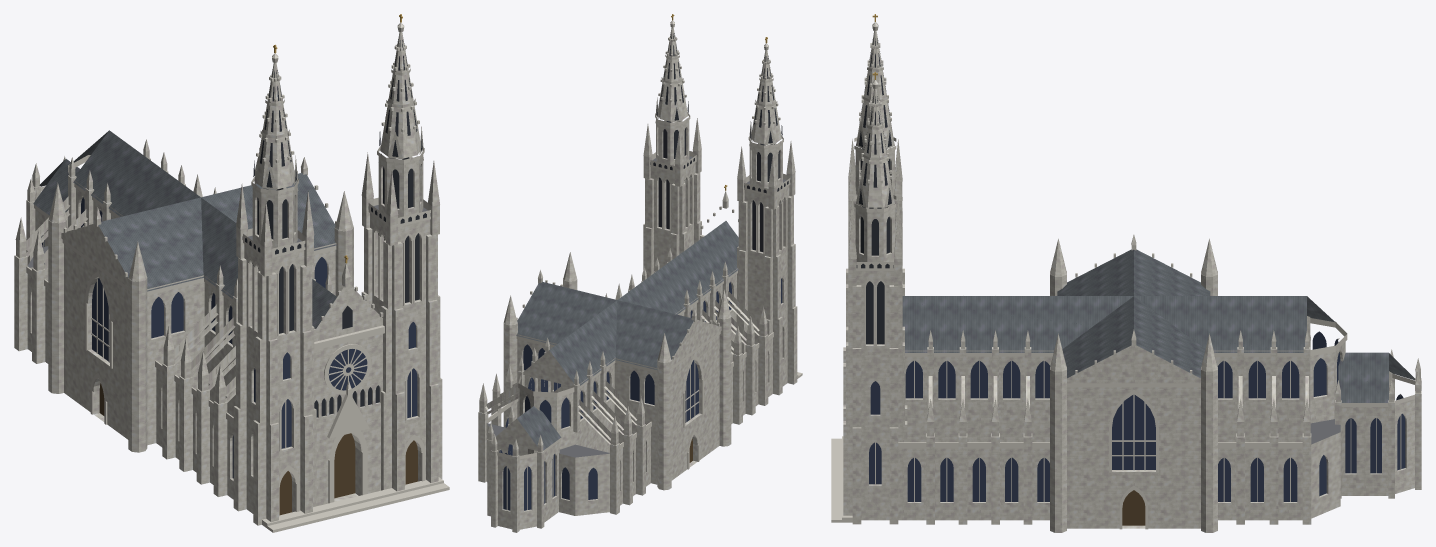
The model's file is st_patricks_cathedral.glb.
The picture shows the model from 3 angles, left to right: view 1: azimuth 30°, elevation 25°; view 2: azimuth 150°, elevation 25°; view 3: azimuth 270°, elevation 25°; orthographic projection. The views are drawn at different scales.
Parts seen in each view (by area): view 1: st_patricks_cathedral; view 2: st_patricks_cathedral; view 3: st_patricks_cathedral.
Part boxes in pixels (<box>): st_patricks_cathedral: <box>14,14,449,532</box>; st_patricks_cathedral: <box>478,14,802,532</box>; st_patricks_cathedral: <box>831,14,1421,532</box>.
Bounding box in the file's own units: 50.32 × 101 × 123.
Materials: 3 (3 with a texture image).
